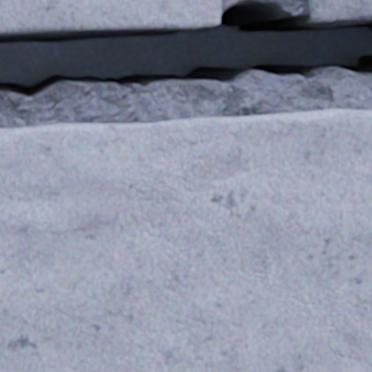brick: (0, 109, 371, 371), (0, 0, 220, 34), (308, 0, 371, 22)
crack: (0, 0, 371, 99)
